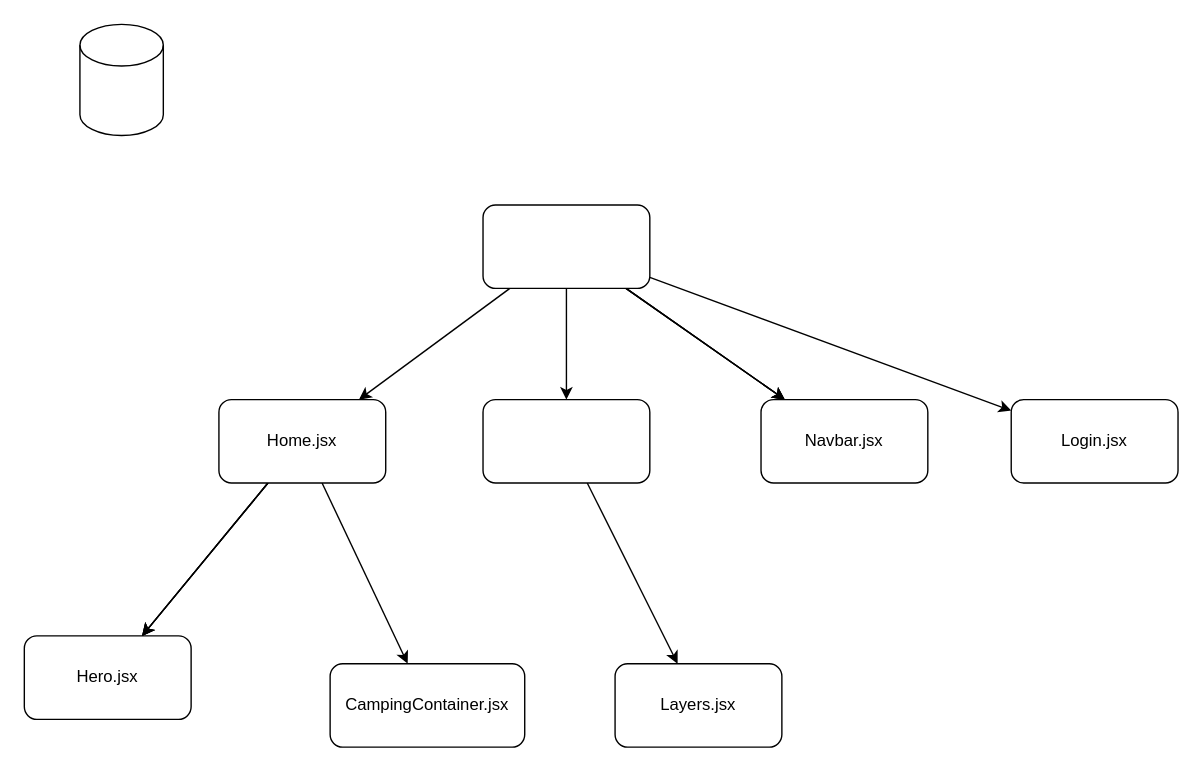
Image size: 1202x771. Some labels were removed from this diagram. The centre of each missing label's shape, as x and y in pixels:
"App.jsx" belongs at pixel 566 246.
"Global State" belongs at pixel 121 79.
"Map.jsx" belongs at pixel 566 440.
